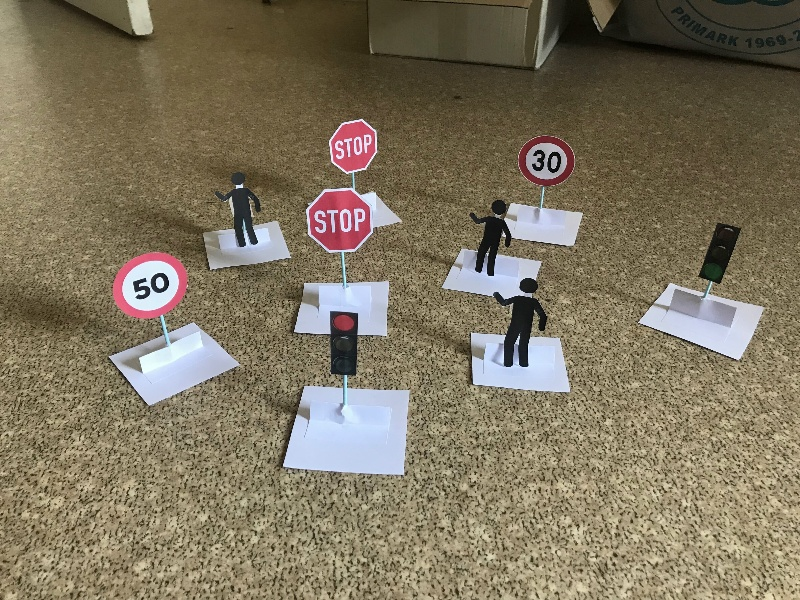green light: (694, 223, 743, 310)
person: (489, 279, 549, 372), (212, 173, 264, 248), (469, 200, 512, 275)
red light: (327, 310, 363, 422)
speed limit 30: (519, 136, 576, 222)
speed limit 50: (114, 252, 190, 361)
stop sign: (305, 189, 374, 303), (328, 117, 378, 192)
